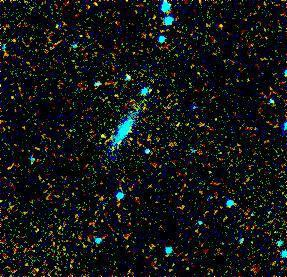star: (91, 122, 121, 152)
